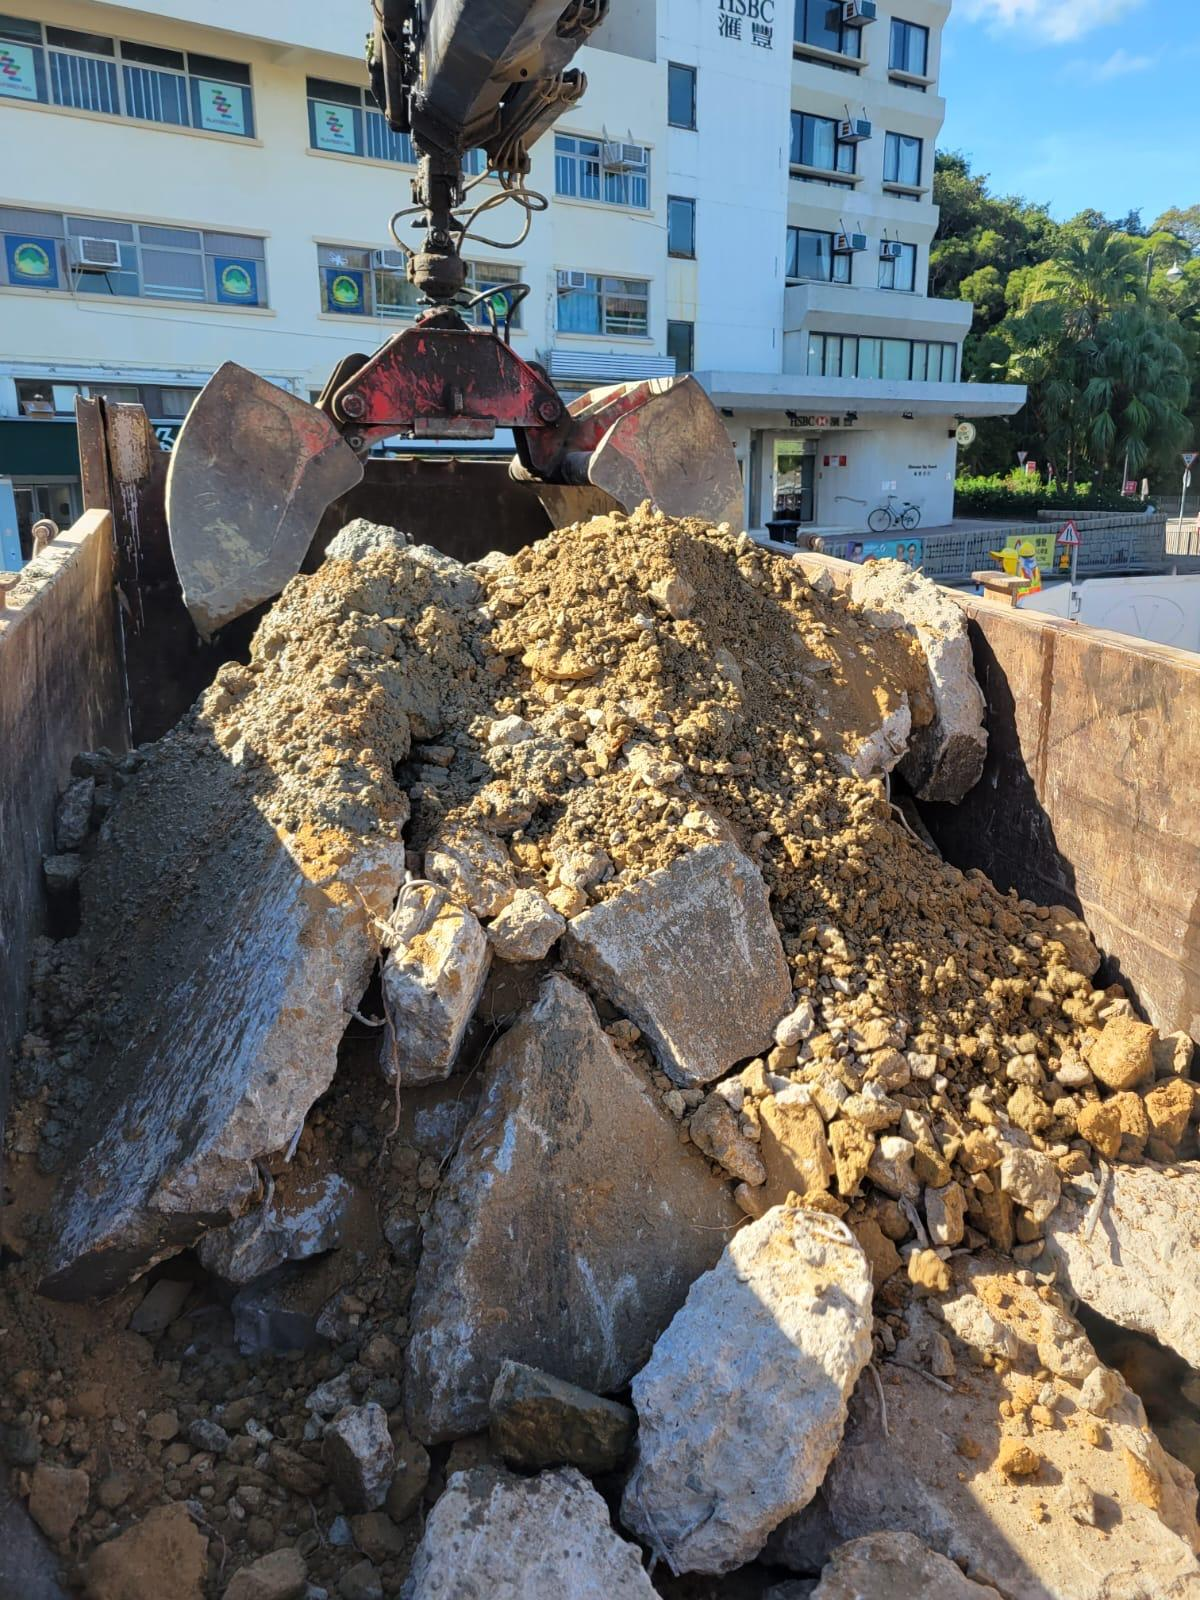dry: (312, 588, 1008, 1188)
